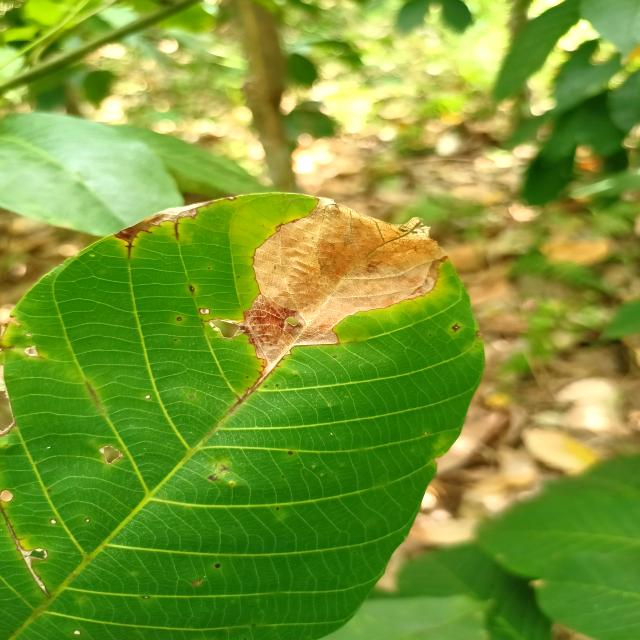Colletotrichum: (452, 324, 460, 332), (50, 518, 57, 524), (73, 630, 81, 635), (145, 394, 151, 400), (190, 286, 195, 292), (85, 518, 90, 523), (142, 596, 150, 599), (215, 564, 221, 568), (177, 317, 182, 321), (47, 488, 52, 492), (288, 451, 293, 455), (190, 394, 194, 398), (333, 355, 337, 358), (276, 507, 280, 510), (276, 384, 278, 387), (246, 376, 249, 378), (174, 339, 177, 341)
Corynespora: (0, 504, 50, 596), (228, 365, 287, 414), (125, 241, 135, 259), (173, 222, 181, 240)
Leaf-Blight: (242, 196, 450, 374), (115, 201, 212, 242)
